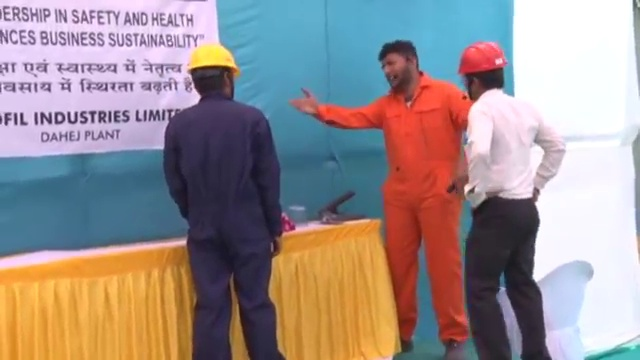helmet: (455, 40, 511, 76), (186, 42, 241, 77)
helmet_off: (377, 41, 422, 92)
helmet_on: (454, 39, 511, 100), (185, 43, 241, 102)
person: (288, 41, 475, 360), (162, 41, 288, 360), (454, 39, 567, 360)
